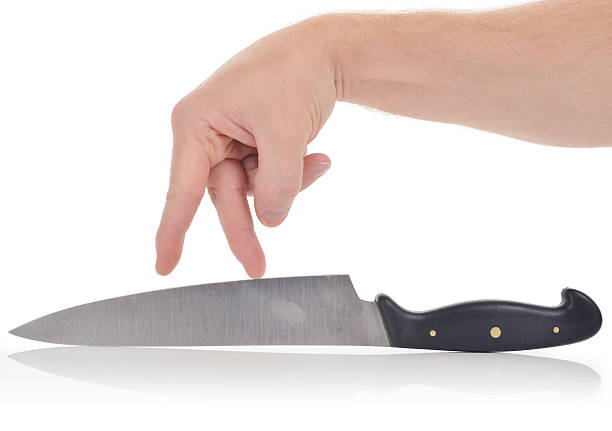knife: (6, 274, 605, 352)
